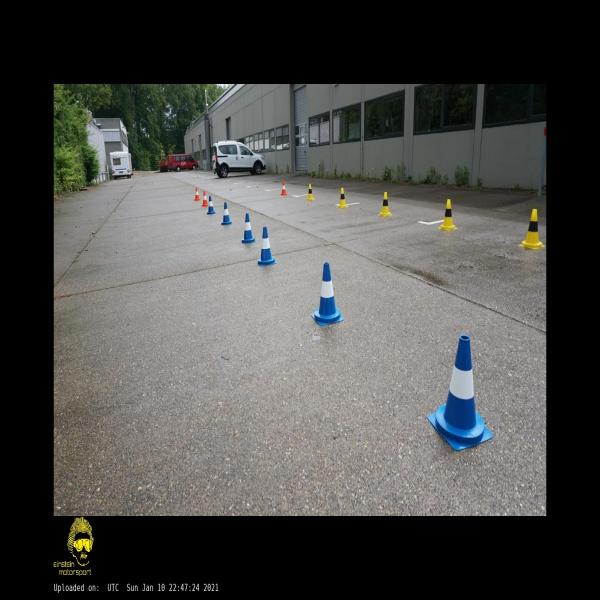blue_cone: (428, 336, 493, 452), (311, 262, 344, 326), (257, 227, 276, 266), (242, 214, 256, 244), (221, 202, 232, 225), (207, 196, 215, 214)
orange_cone: (202, 191, 209, 206), (281, 181, 287, 195), (194, 187, 200, 201)
yellow_cone: (519, 209, 545, 249), (438, 200, 458, 230), (379, 192, 392, 216), (338, 187, 347, 208), (306, 184, 315, 201)
